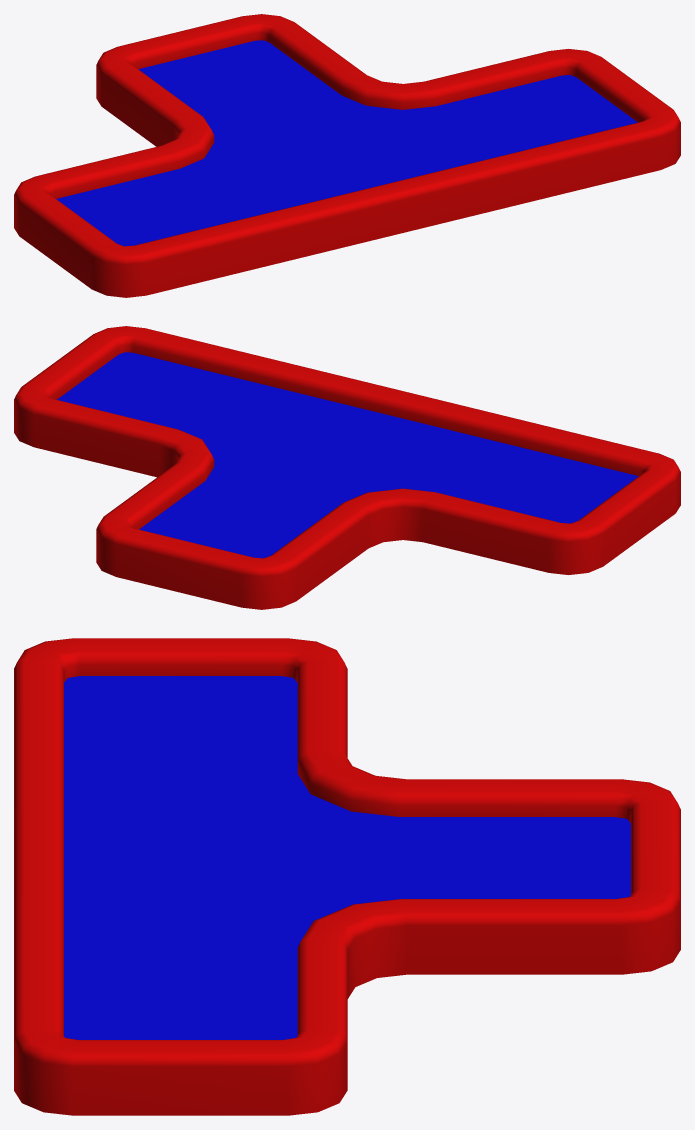
3 renders of one model, top to bottom at view 1: azimuth 30°, elevation 25°; view 2: azimuth 150°, elevation 25°; view 3: azimuth 270°, elevation 25°, orthographic. The views are drawn at different scales.
Parts seen in each view (by area): view 1: 2x3_1; view 2: 2x3_1; view 3: 2x3_1.
Part boxes in pixels (x1,y1,x2,y2): 2x3_1: (14, 14, 680, 297); 2x3_1: (14, 326, 680, 609); 2x3_1: (14, 638, 680, 1115).
Bounding box in the file's own units: 600 × 38.86 × 400.
